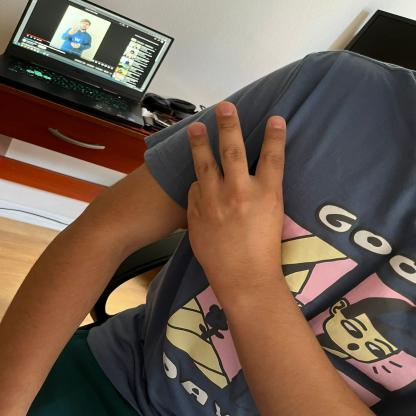W: (173, 96, 294, 274)
